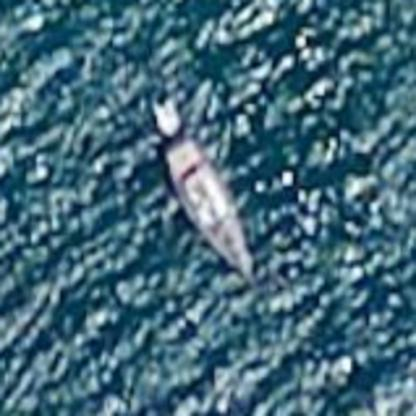ship: (143, 89, 269, 291)
